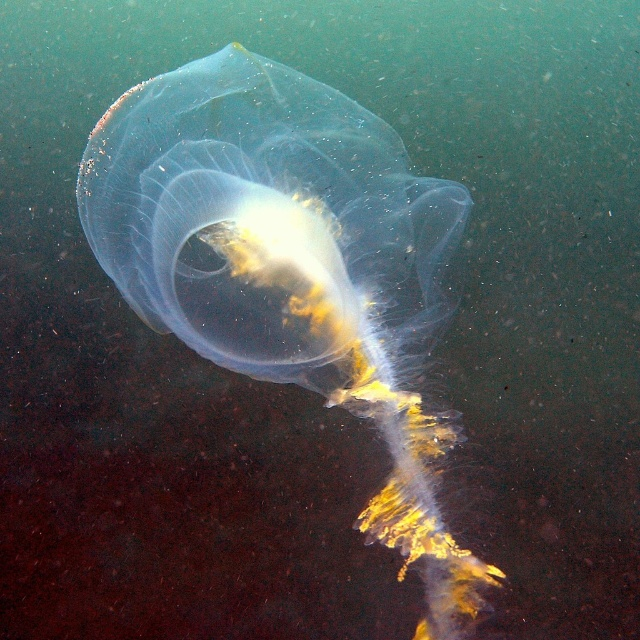Jellyfish: (73, 40, 504, 639)
